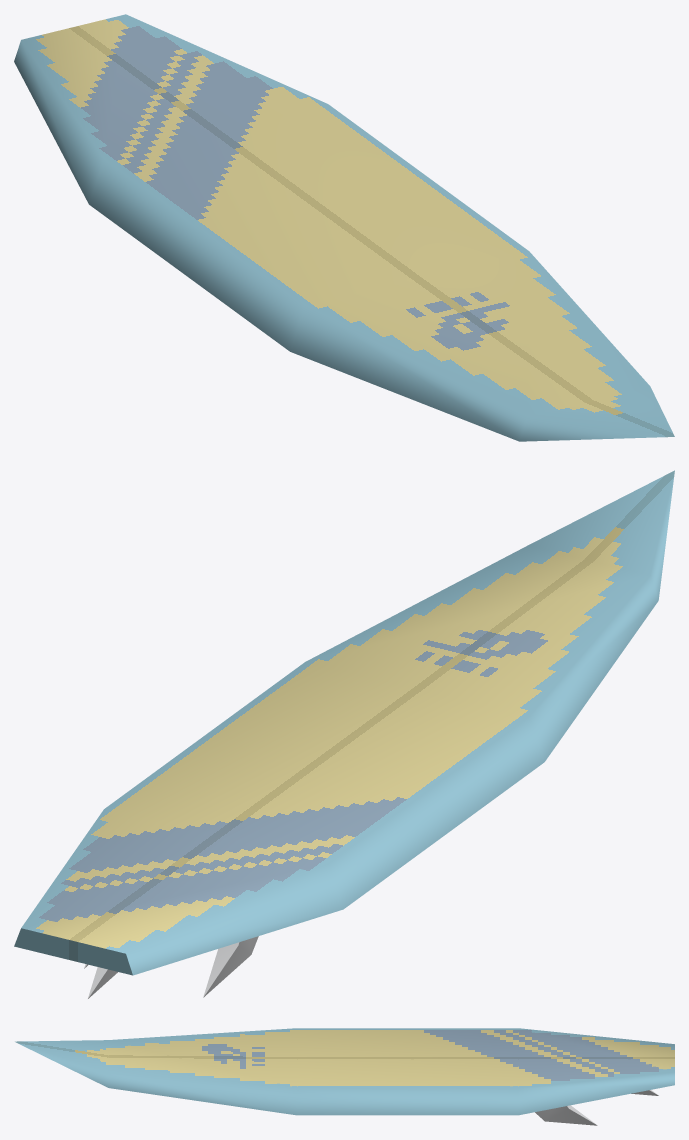
File: 0144_Surfboard.glb
The picture shows the model from 3 angles, top to bottom: view 1: azimuth 30°, elevation 25°; view 2: azimuth 150°, elevation 25°; view 3: azimuth 270°, elevation 25°; orthographic projection. The views are drawn at different scales.
Parts seen in each view (by area): view 1: part_0; view 2: part_0; view 3: part_0.
Part boxes in pixels (x1,y1,x2,y2): part_0: (14,14,674,441); part_0: (14,470,674,998); part_0: (15,1028,674,1125).
Size of the model in its own units: 0.4704 by 0.2195 by 1.92.
Materials: 1 (1 with a texture image).
